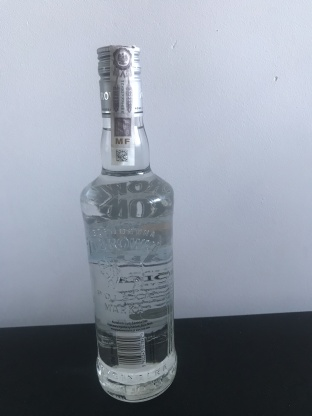nakretka: (94, 40, 145, 119)
